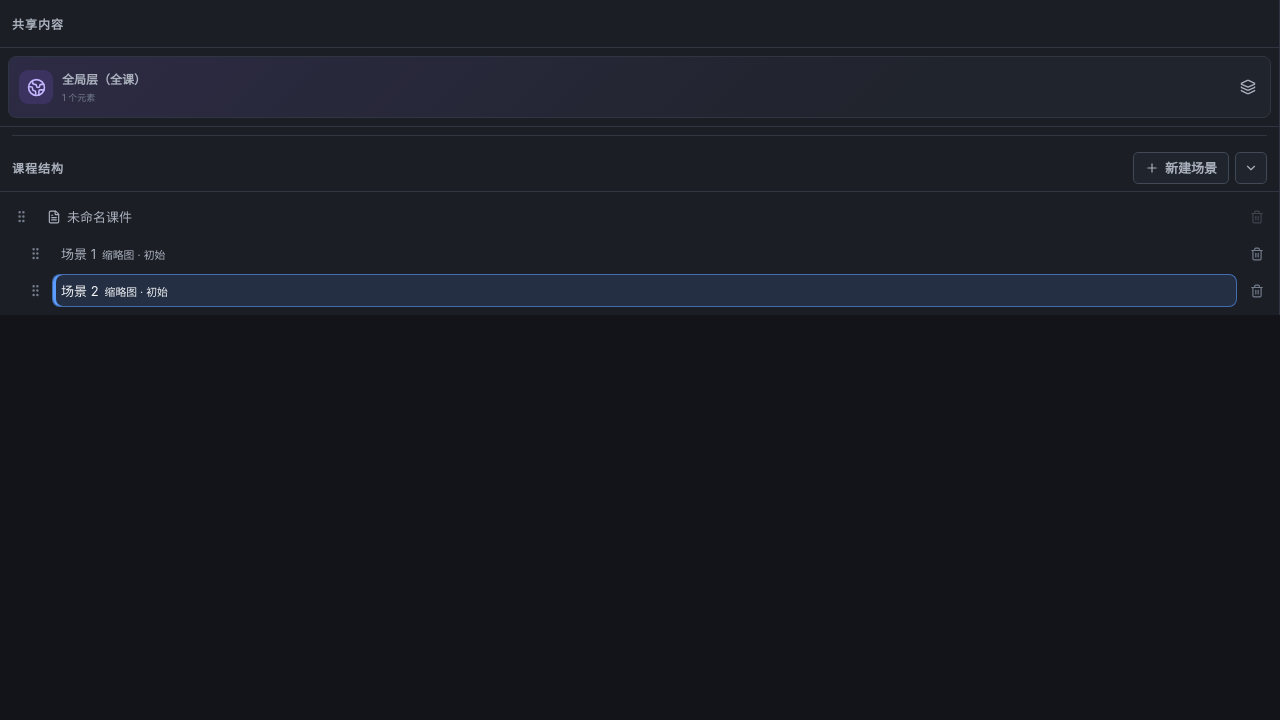
it: ScenePanel course tree reorder › deletes a same-page slide scene from the danger button after confirm, and disables the last remaining scene
The image size is (1280, 720).
Click the button named "删除“" at (1257, 290), box 1243,276 -> 1271,304
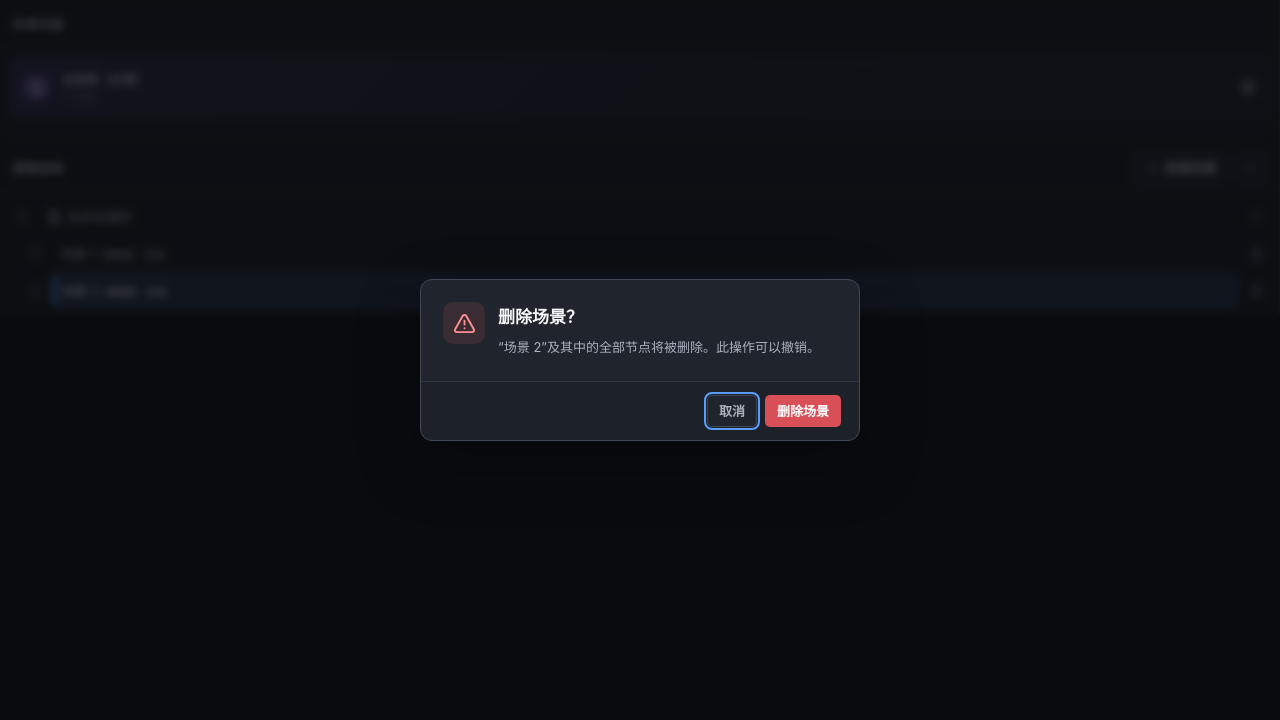
Click the button "删除场景" at (803, 410), box 765,394 -> 841,426
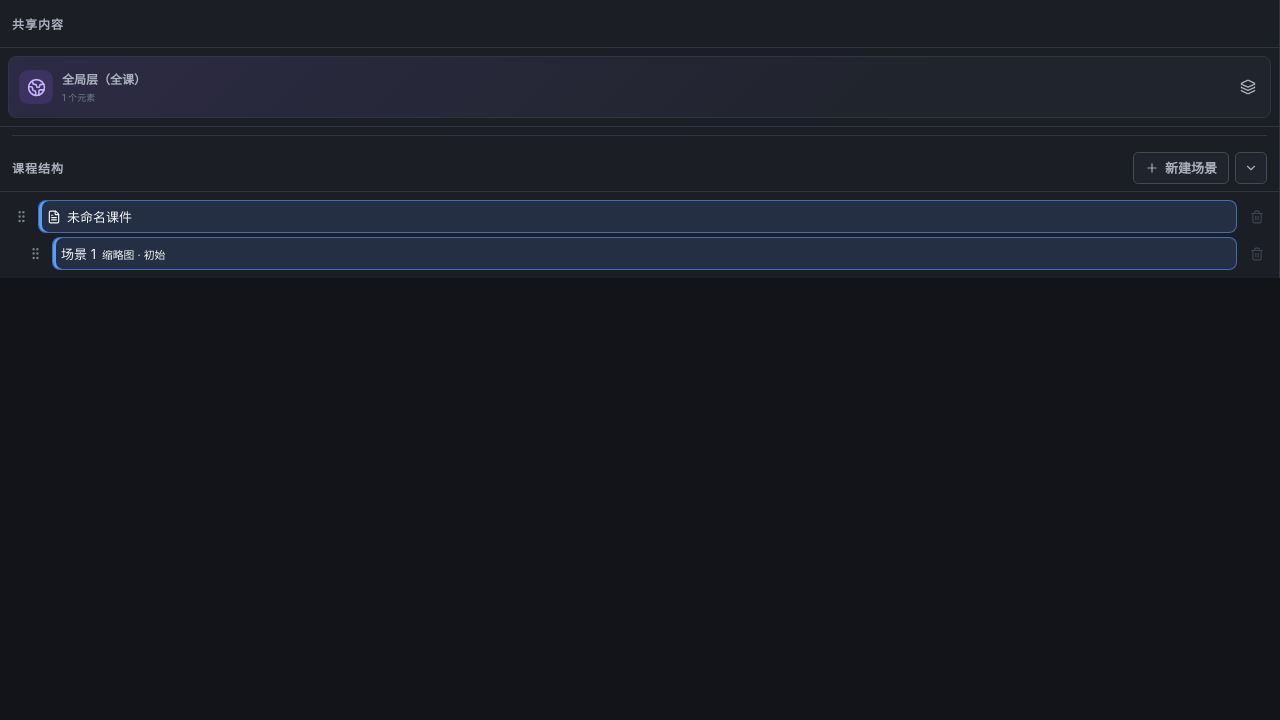
expect the button named "删除“" is disabled: met, box 1243,240 -> 1271,268
